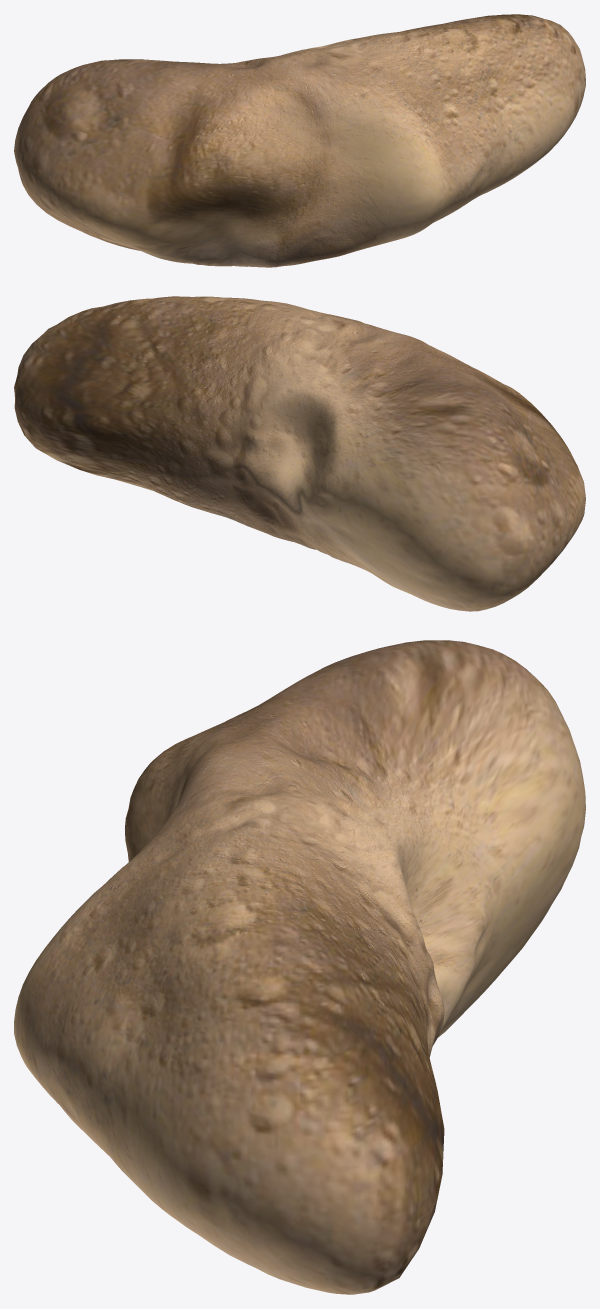
File: eros.glb
3 renders of one model, top to bottom at view 1: azimuth 30°, elevation 25°; view 2: azimuth 150°, elevation 25°; view 3: azimuth 270°, elevation 25°, orthographic. The views are drawn at different scales.
Parts seen in each view (by area): view 1: eros; view 2: eros; view 3: eros.
Boxes of the visible parts, box(x1,y1,x2,y2) form: eros: box(14, 14, 585, 267); eros: box(14, 296, 585, 611); eros: box(14, 640, 585, 1294).
Size of the model in its own units: 32.37 by 11.8 by 16.67.
Materials: 1 (1 with a texture image).
